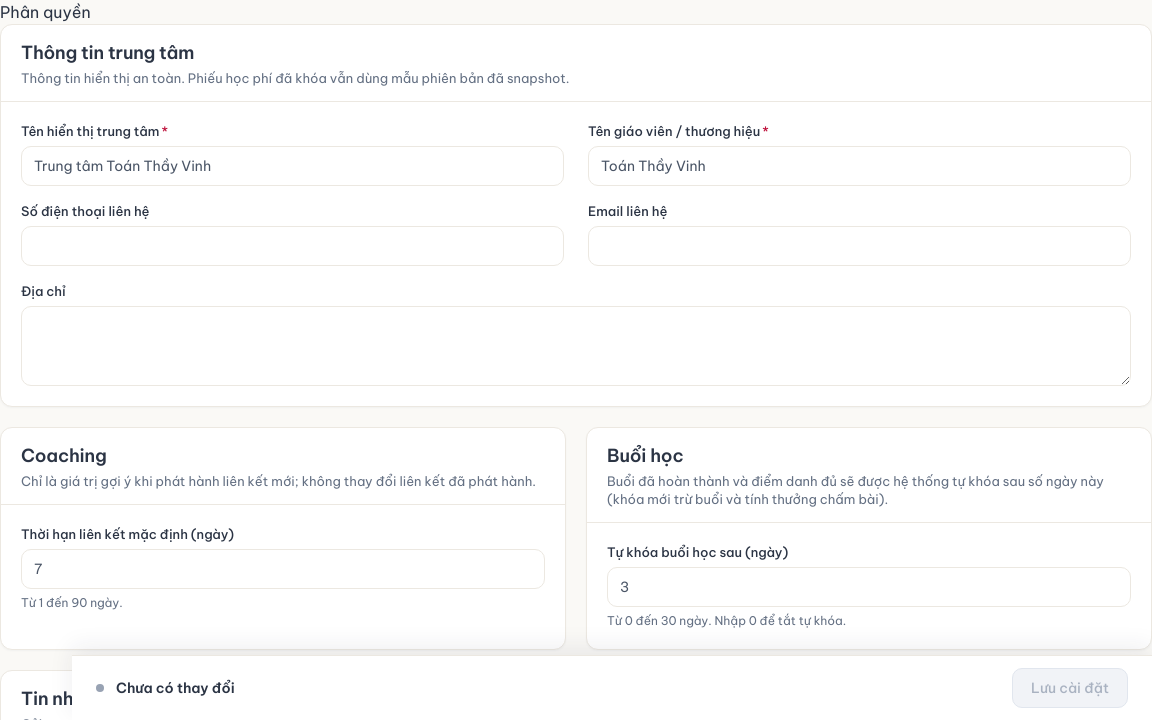
Scenario: SystemSettingsForm save bar › discards the typed draft on Rời trang
Replace the text in the field labelled "Tên hiển thị trung tâm" with "Bản nháp". click: [292, 166]
box: [21,146,564,186]
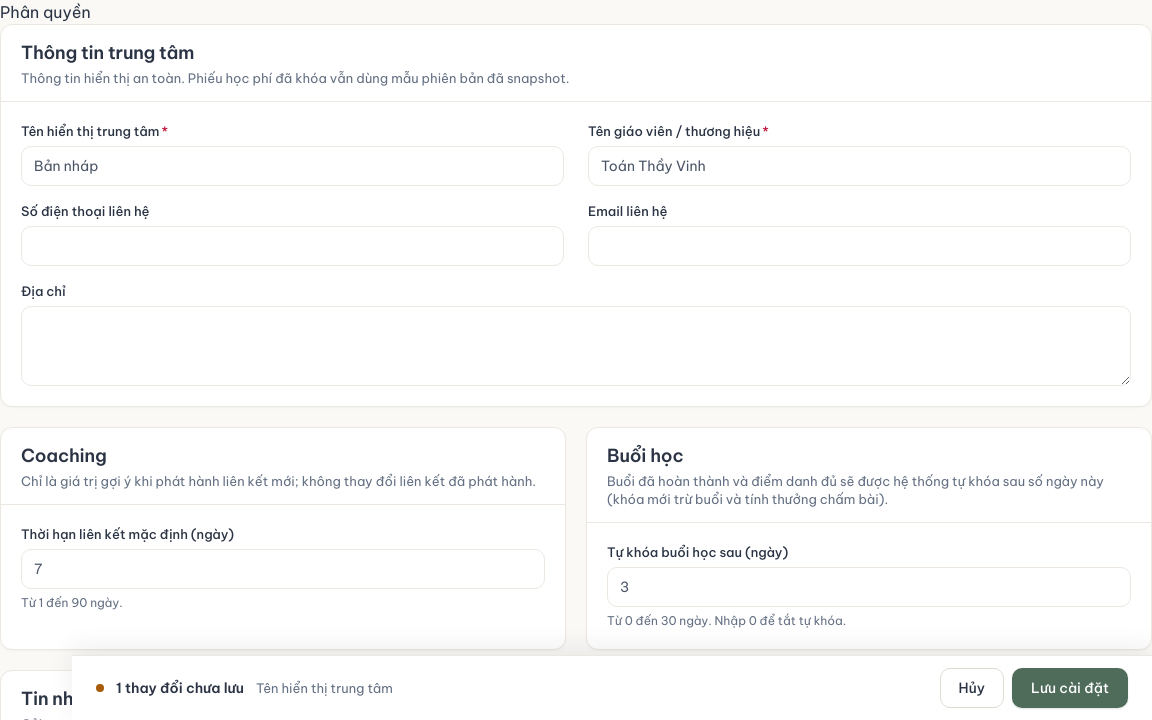
Check: the element named "Thanh lưu thay đổi" shows "1 thay đổi chưa lưu", box [116,679,244,697]
Click the link "Phân quyền". click: [45, 12]
box: [0,2,91,22]
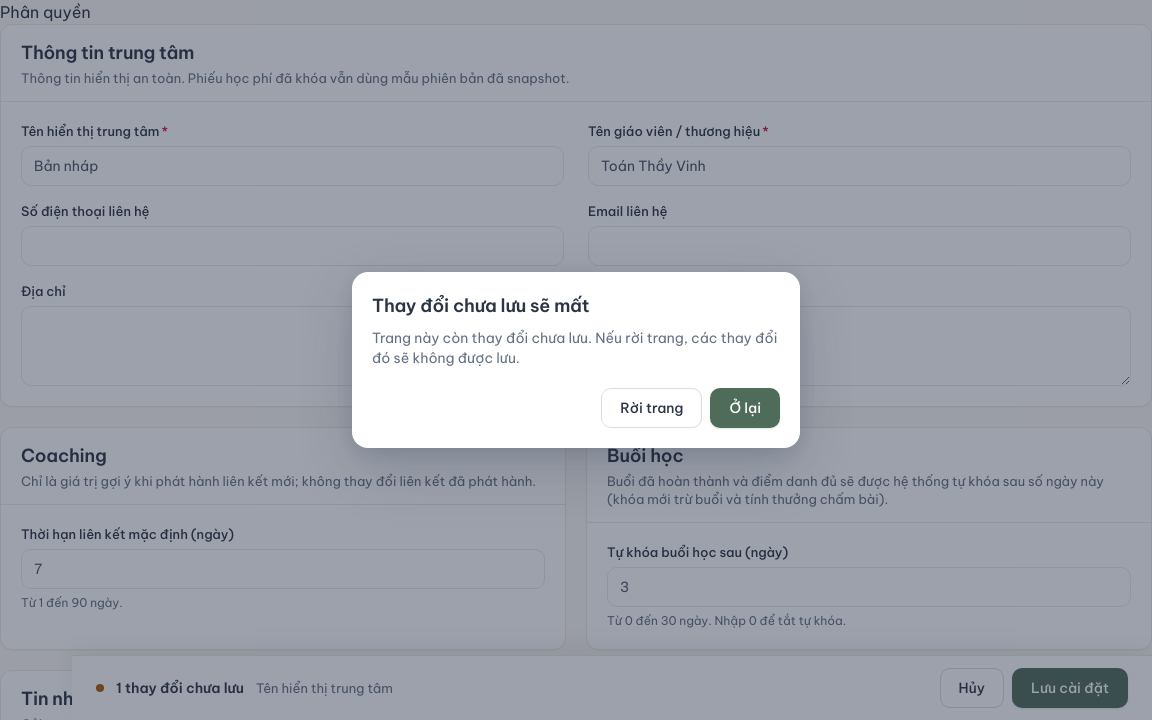
Click the button "Rời trang". click: [652, 408]
box: [601,388,702,428]
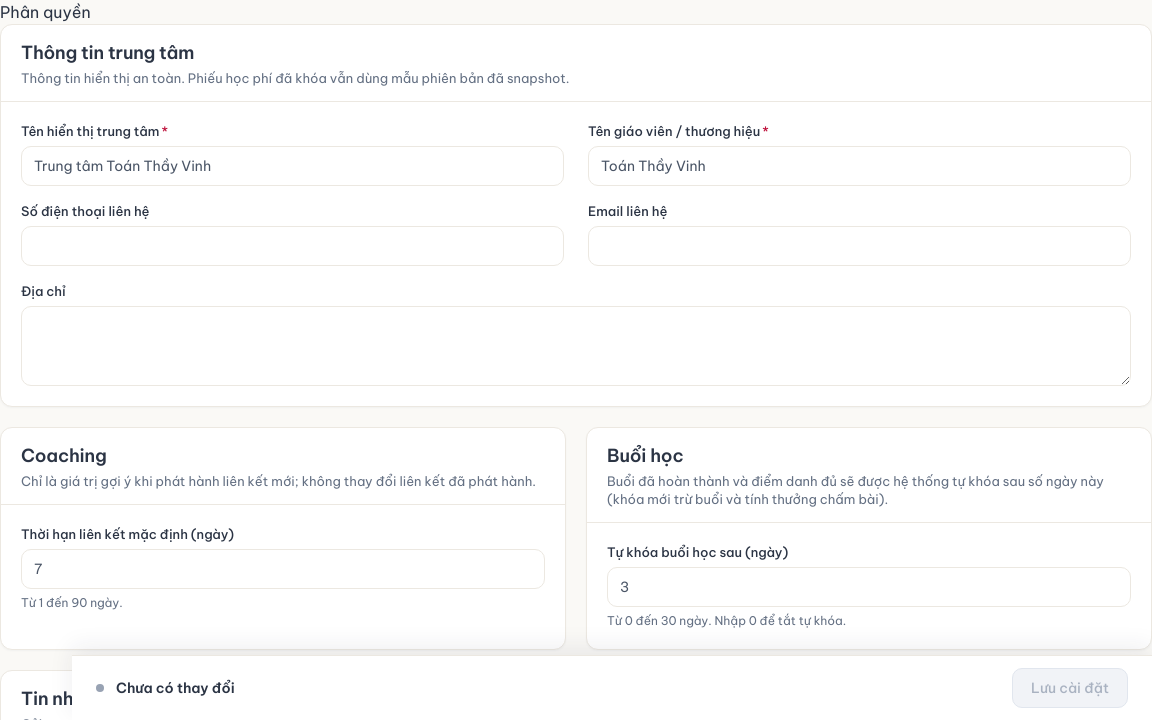
Check: the field labelled "Tên hiển thị trung tâm" holds "Trung tâm Toán Thầy Vinh", box [21,146,564,186]
Check: the element named "Thanh lưu thay đổi" shows "Chưa có thay đổi", box [116,679,235,697]
